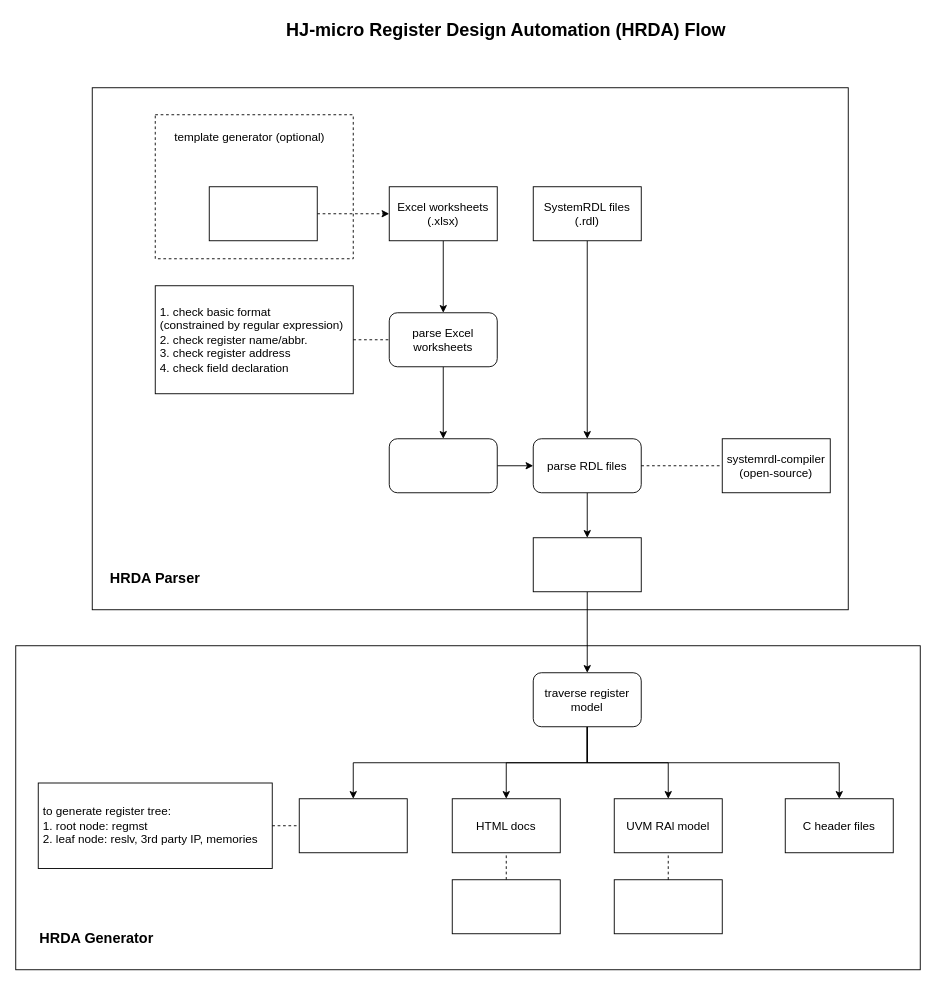
The diagram is 936 pixels wide and 986 high, and some of its shapes have lost their labels. The shapes that lost their labels are listed below. From the top down, each one's centre as x and y in pixels, then its label:
pixel 262 213: generate Excel templates
pixel 442 465: generate RDL files
pixel 586 564: hierarchical register model
pixel 352 825: RTL modules
pixel 505 906: peakrdl-html (open-source)
pixel 667 906: peakrdl-uvm (open-source)
